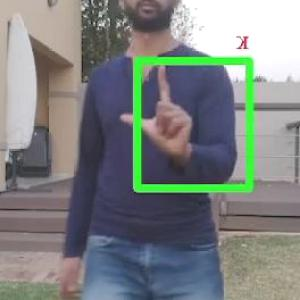land_hand: (116, 55, 208, 163)
